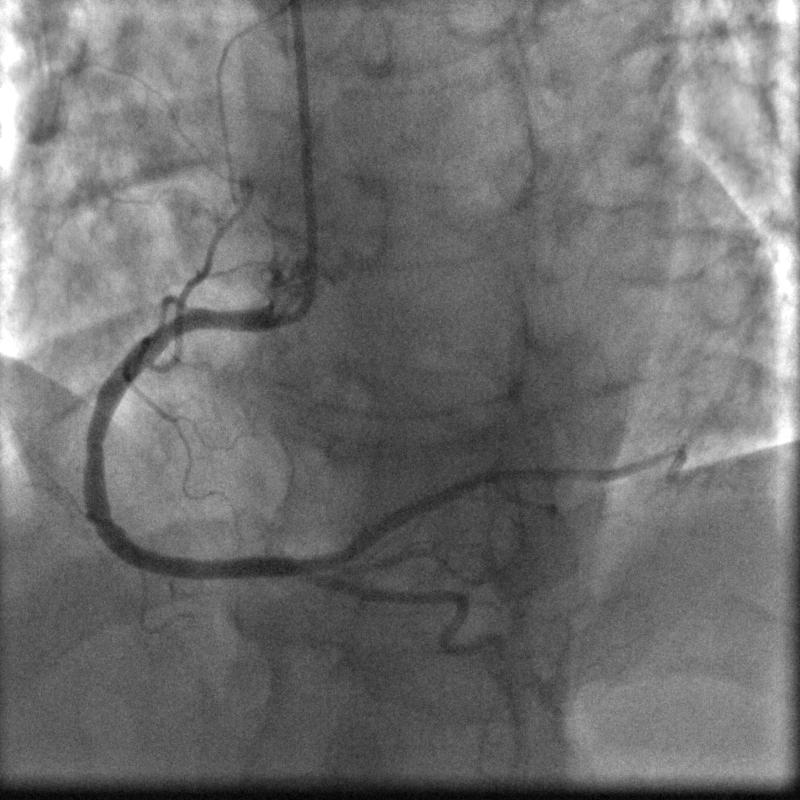Stenosis: (80, 420, 110, 468)
